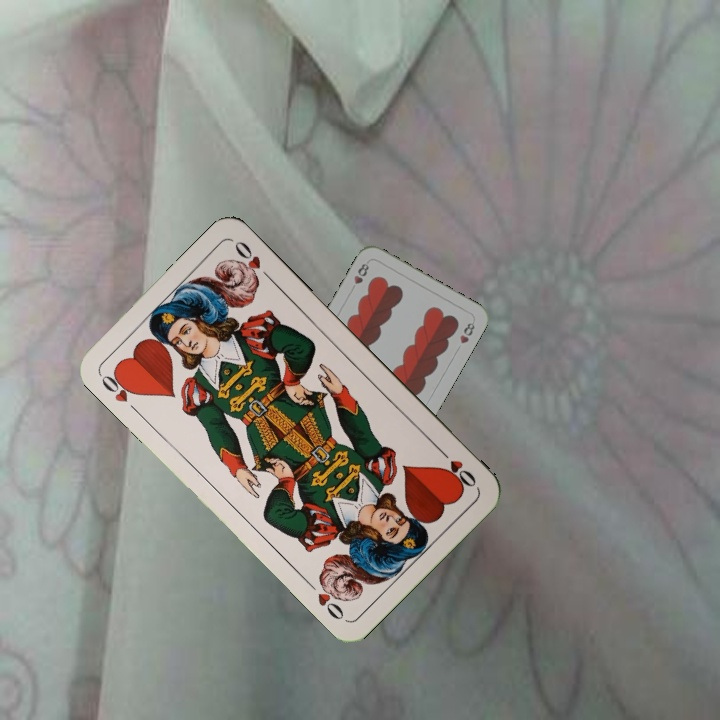H8: (350, 259, 372, 287)
HO: (96, 366, 142, 417), (434, 443, 479, 491)
